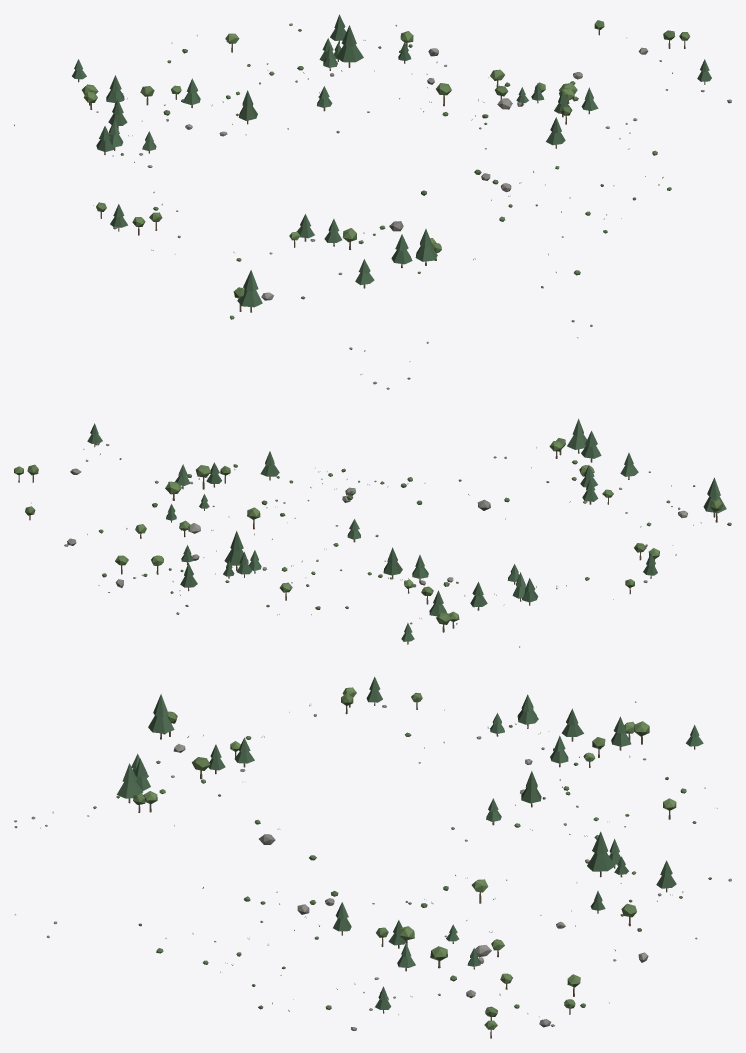
The model's file is arch_land_scatter_c18_18_lod1.glb.
The picture shows the model from 3 angles, top to bottom: view 1: azimuth 30°, elevation 25°; view 2: azimuth 150°, elevation 25°; view 3: azimuth 270°, elevation 25°; orthographic projection. The views are drawn at different scales.
Visible parts, largest first — view 1: arch_land_scatter_c18_18_lod1; view 2: arch_land_scatter_c18_18_lod1; view 3: arch_land_scatter_c18_18_lod1.
Part boxes in pixels (x1=…): arch_land_scatter_c18_18_lod1: x1=14, y1=14, x2=731, y2=389; arch_land_scatter_c18_18_lod1: x1=14, y1=418, x2=731, y2=647; arch_land_scatter_c18_18_lod1: x1=14, y1=676, x2=731, y2=1038.
Bounding box in the file's own units: 259 × 43.82 × 239.
